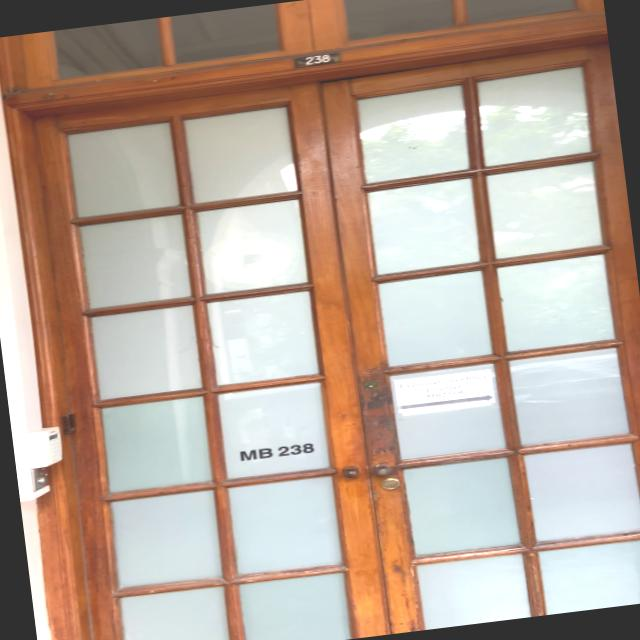room238: (294, 50, 340, 67)
